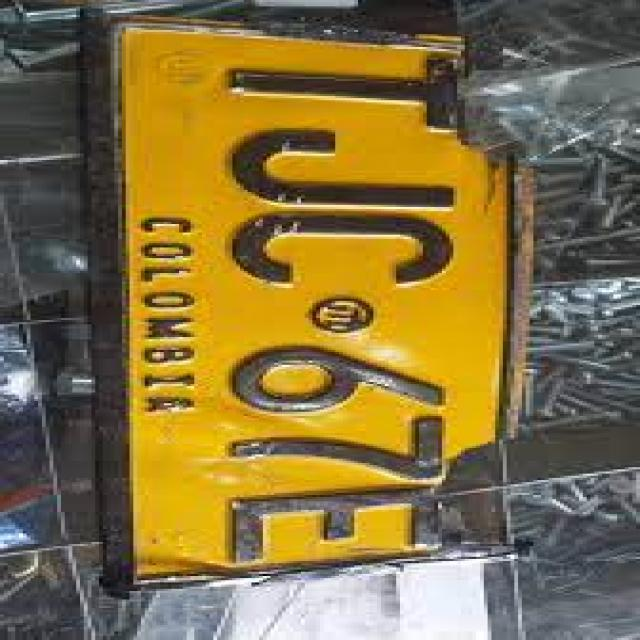placa_moto: (91, 12, 563, 607)
